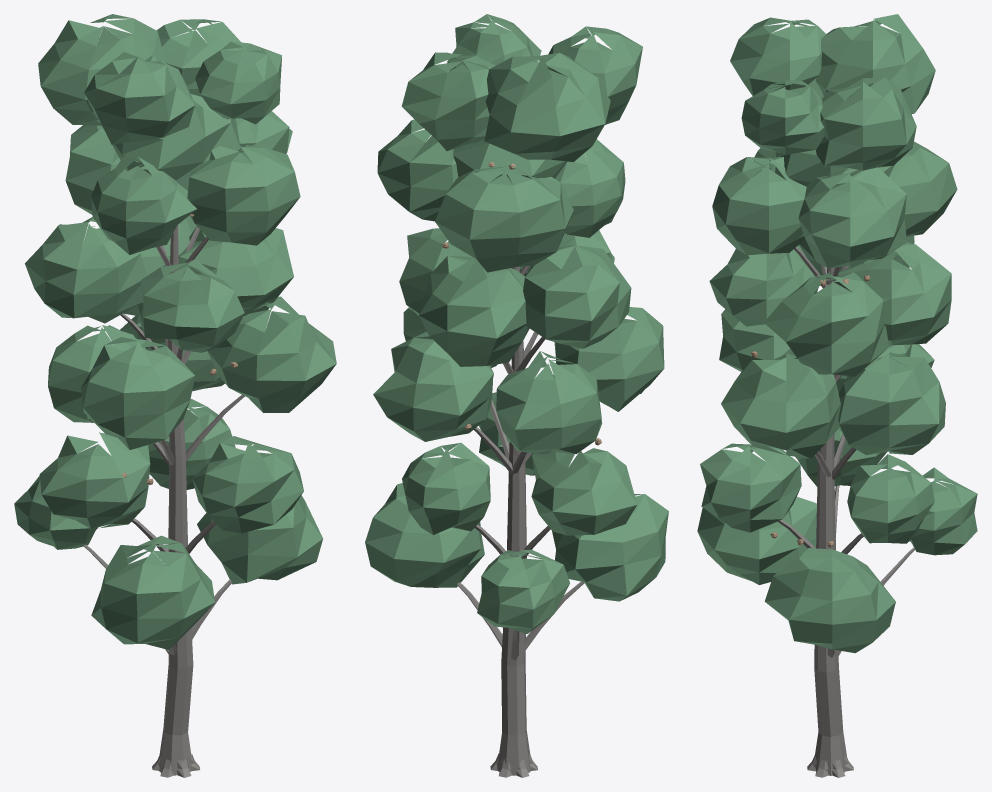
The model's file is mature-common-alder.glb.
3 views of the same model, side by side, from view 1: azimuth 30°, elevation 25°; view 2: azimuth 150°, elevation 25°; view 3: azimuth 270°, elevation 25° (orthographic). The views are drawn at different scales.
Parts seen in each view (by area): view 1: common-alder-mature; view 2: common-alder-mature; view 3: common-alder-mature.
Part boxes in pixels (x1=…): common-alder-mature: x1=14, y1=14, x2=336, y2=777; common-alder-mature: x1=365, y1=14, x2=668, y2=777; common-alder-mature: x1=697, y1=14, x2=977, y2=777.
Size of the model in its own units: 6.19 by 16.61 by 5.82.
